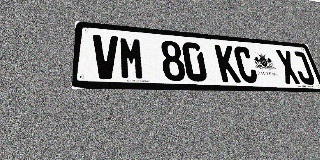0: (181, 42, 208, 82)
8: (160, 40, 186, 81)
C: (233, 46, 259, 83)
J: (290, 51, 316, 85)
K: (214, 44, 241, 83)
M: (119, 36, 145, 80)
V: (92, 34, 119, 79)
X: (275, 50, 301, 84)
